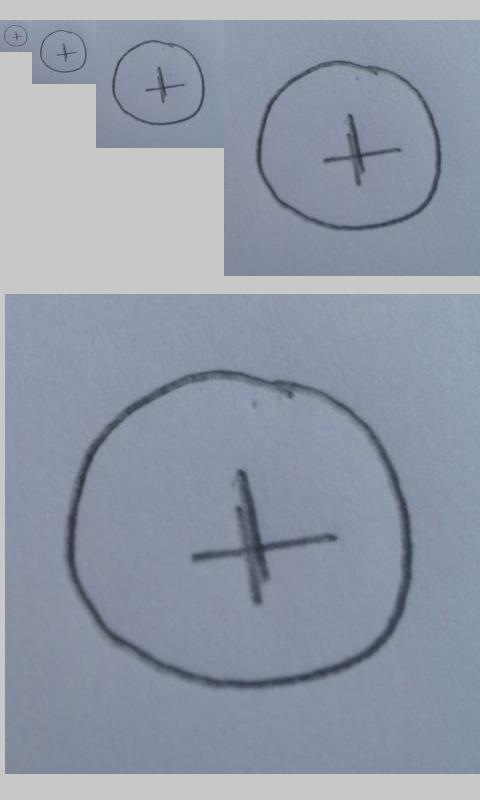button: (62, 366, 415, 690), (256, 59, 442, 232), (111, 39, 206, 126), (39, 29, 87, 73), (3, 24, 28, 47)
